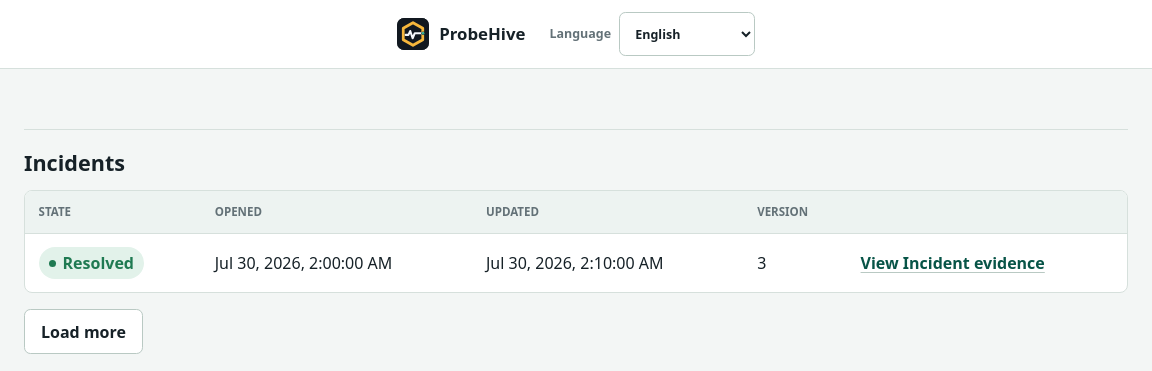
Test case: lists Incidents and follows the opaque keyset cursor
Expected: the row "Resolved" is shown, [25,234,1127,292]
Click the button "Load more" at [83, 332], box [24,309,143,354]
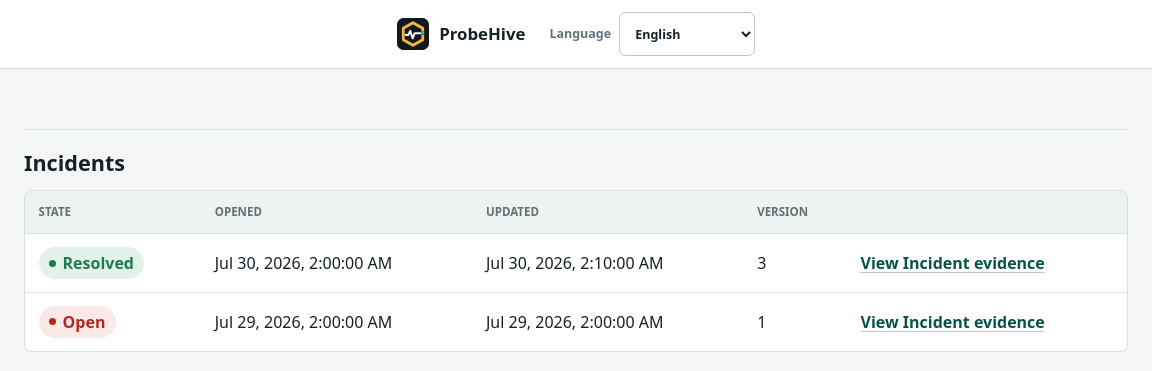
Expected: the row "Open " is shown, [25,292,1127,351]
